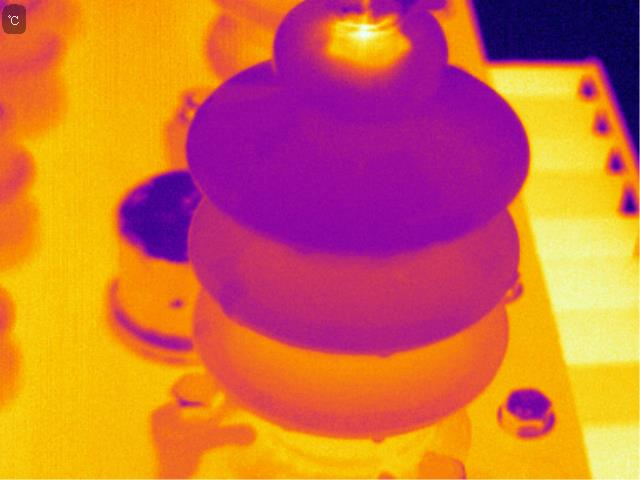Oil: (308, 7, 417, 92), (214, 35, 283, 110), (217, 290, 240, 322), (368, 429, 393, 452), (377, 342, 397, 362)
